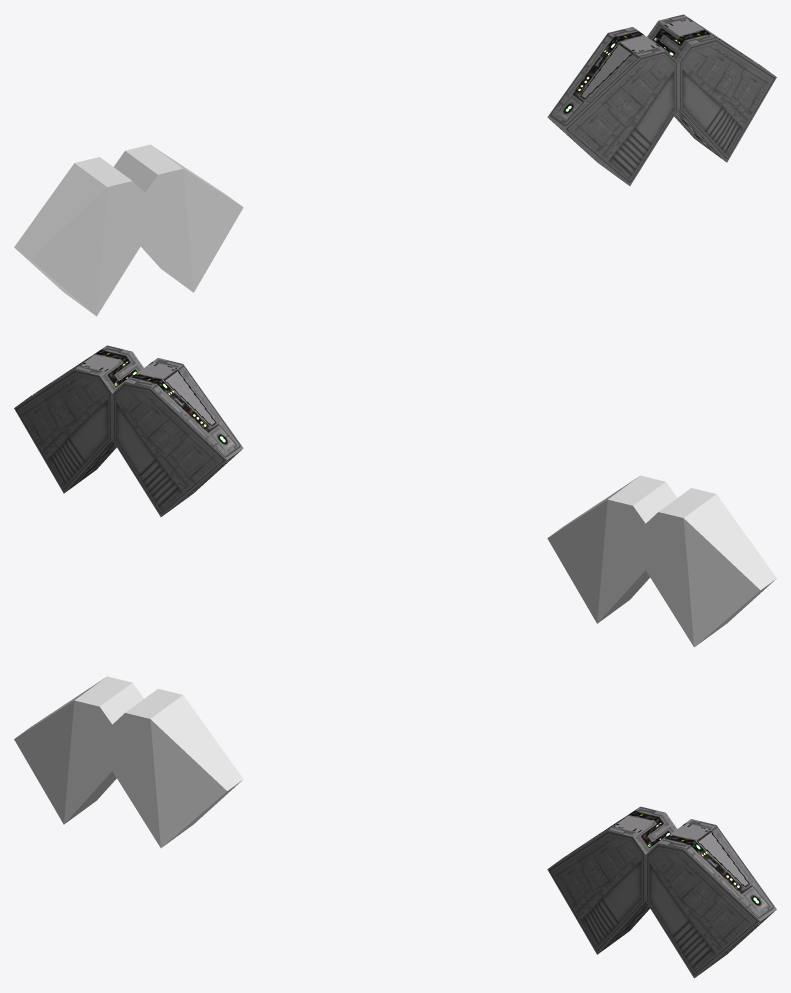
Rendered from ksh_sec_ms_production_micro.dae.
3 views of the same model, one above another, from view 1: azimuth 30°, elevation 25°; view 2: azimuth 150°, elevation 25°; view 3: azimuth 330°, elevation 25° (orthographic).
Visible parts, largest first — view 1: COL[Root], MULT[Root_mesh]_LOD[0]; view 2: COL[Root], MULT[Root_mesh]_LOD[0]; view 3: MULT[Root_mesh]_LOD[0], COL[Root].
Part boxes in pixels (x1=…): COL[Root]: x1=14, y1=144, x2=243, y2=316; MULT[Root_mesh]_LOD[0]: x1=547, y1=14, x2=776, y2=185; COL[Root]: x1=547, y1=475, x2=776, y2=647; MULT[Root_mesh]_LOD[0]: x1=14, y1=345, x2=243, y2=516; MULT[Root_mesh]_LOD[0]: x1=547, y1=806, x2=776, y2=978; COL[Root]: x1=14, y1=676, x2=243, y2=847.
Bounding box in the file's own units: 1075 × 174 × 82.
Materials: 3 (3 with a texture image).
